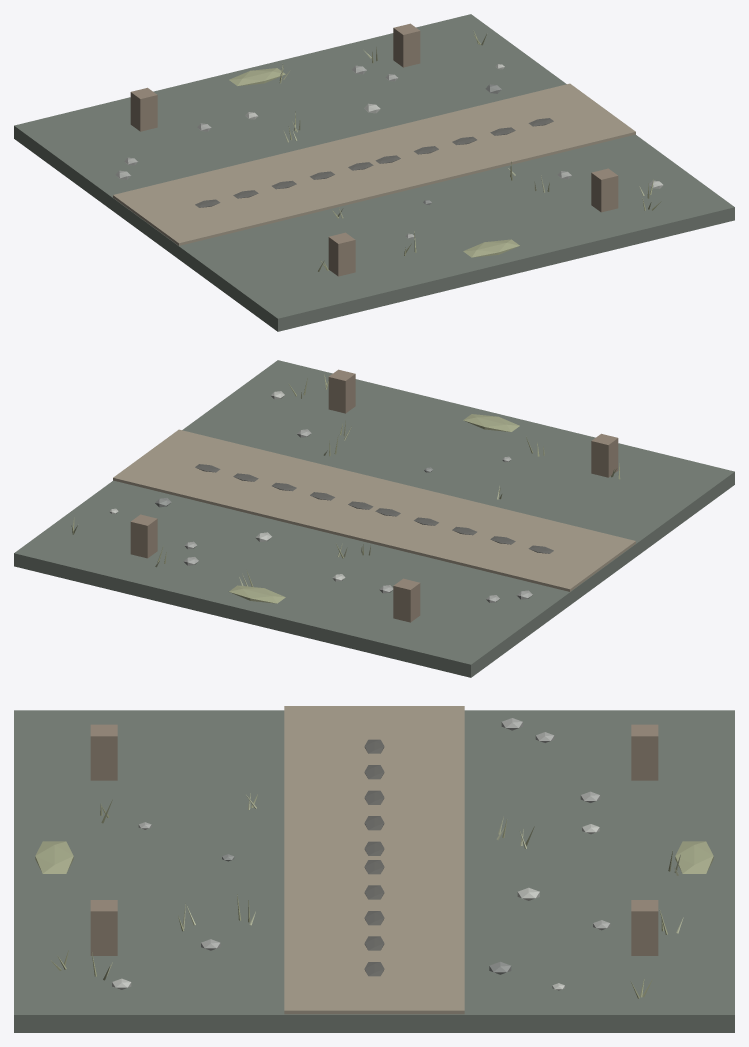
The model's file is approach_tser_ew.glb.
The picture shows the model from 3 angles, top to bottom: view 1: azimuth 30°, elevation 25°; view 2: azimuth 150°, elevation 25°; view 3: azimuth 270°, elevation 25°; orthographic projection. The views are drawn at different scales.
Parts seen in each view (by area): view 1: road_material_00, road_material_01, road_material_08, road_material_05, road_material_07, road_material_02; view 2: road_material_00, road_material_01, road_material_08, road_material_05, road_material_07, road_material_02; view 3: road_material_00, road_material_01, road_material_08, road_material_05, road_material_07, road_material_02, road_material_04.
Boxes of the visible parts, <box> form: road_material_00: <box>14,14,734,331</box>; road_material_01: <box>113,83,635,245</box>; road_material_08: <box>130,23,618,276</box>; road_material_05: <box>229,30,661,271</box>; road_material_07: <box>195,118,553,207</box>; road_material_02: <box>115,65,571,239</box>; road_material_00: <box>14,360,734,677</box>; road_material_01: <box>113,429,635,591</box>; road_material_08: <box>130,369,618,622</box>; road_material_05: <box>71,374,620,603</box>; road_material_07: <box>195,464,553,553</box>; road_material_02: <box>183,429,532,602</box>; road_material_00: <box>14,710,734,1032</box>; road_material_01: <box>284,706,464,1014</box>; road_material_08: <box>90,724,658,955</box>; road_material_05: <box>35,794,713,998</box>; road_material_07: <box>364,739,384,976</box>; road_material_02: <box>138,718,610,950</box>; road_material_04: <box>112,824,599,990</box>.
Bounding box in the file's own units: 8 × 0.765 × 8.
